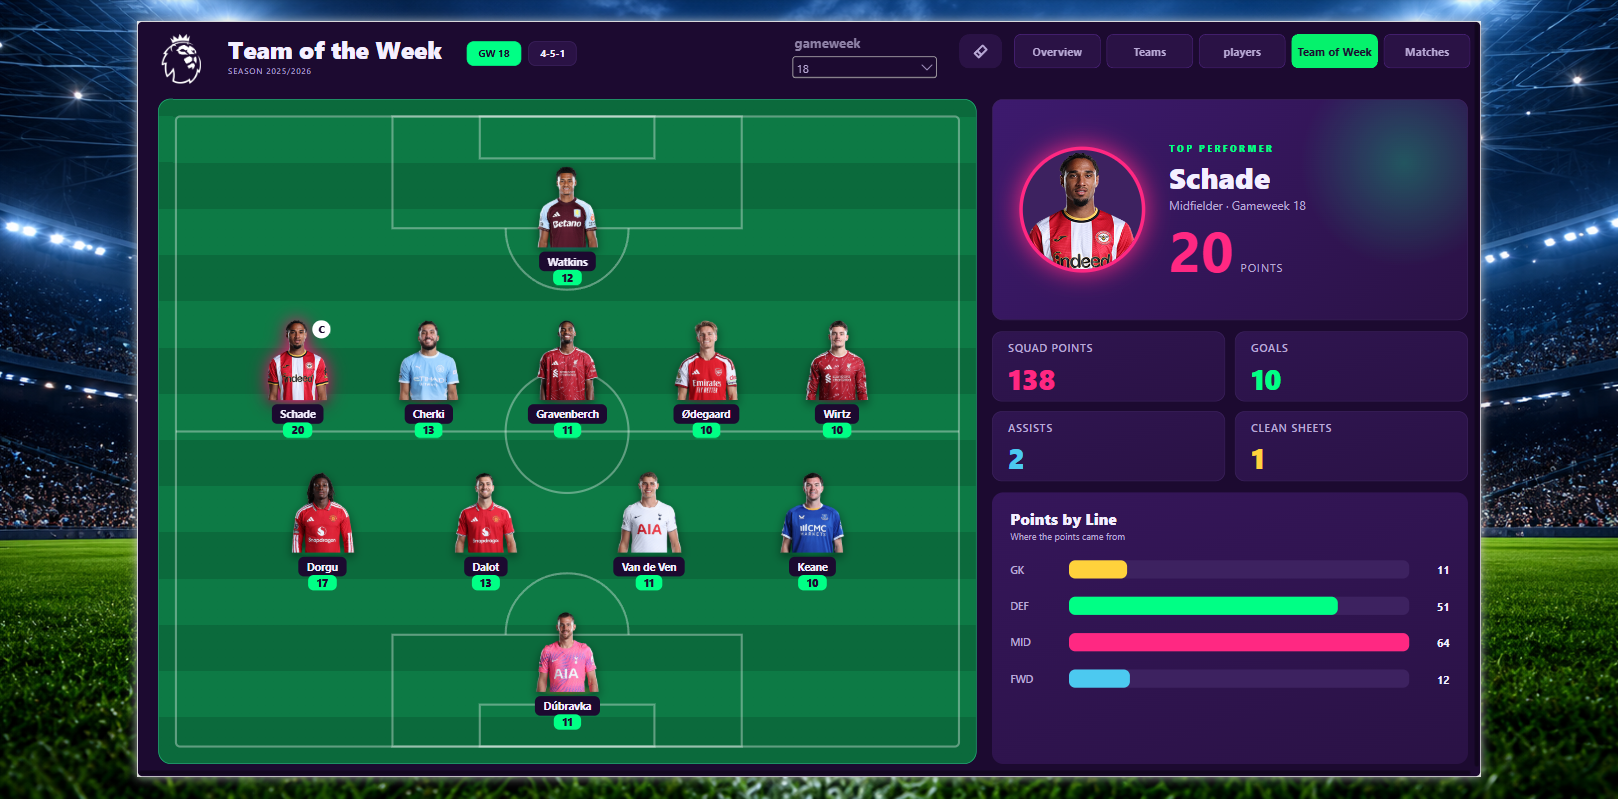

The dashboard page shown, as its layout file describes it:
{"tool":"powerbi","page":{"name":"Team of Week","canvas":[1920,1080],"ordinal":4},"visuals":[{"type":"htmlContent443BE3AD55E043BF878BED274D3A6855","fields":{"content":["Html.HTML Team of the Week 3"]},"box":[0,0,1920,1080],"z":0},{"type":"slicer","fields":{"Values":["Gameweeks Dim.gameweek"]},"box":[930.8,18.5,216.2,77.5],"z":1000},{"type":"actionButton","box":[1173.7,18.2,61.6,49.5],"z":2000},{"type":"image","box":[13.8,18.5,98.5,70.8],"z":3000},{"type":"pageNavigator","box":[1252.5,18.2,652,49],"z":4000}]}

Visuals, with their boxes on the page's 1920x1080 design canvas (x1, y1, x2, y2). These are canvas units, not pixel positions in the 1618x799 screenshot, which may show the page scaled, cropped or inside an application window:
htmlContent443BE3AD55E043BF878BED274D3A6855 - Html.HTML Team of the Week 3: 0/0/1920/1080
slicer - Gameweeks Dim.gameweek: 931/18/1147/96
actionButton: 1174/18/1235/68
image: 14/18/112/89
pageNavigator: 1252/18/1904/67
